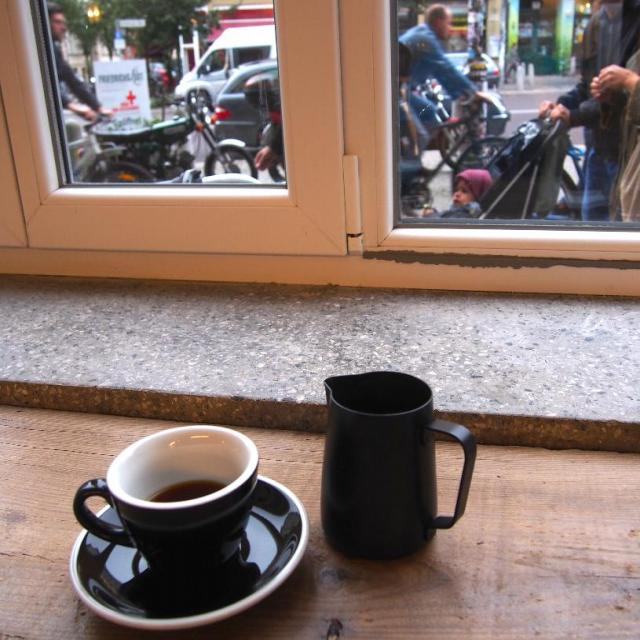Coffee: (152, 482, 230, 500)
Tea: (140, 479, 226, 503)
